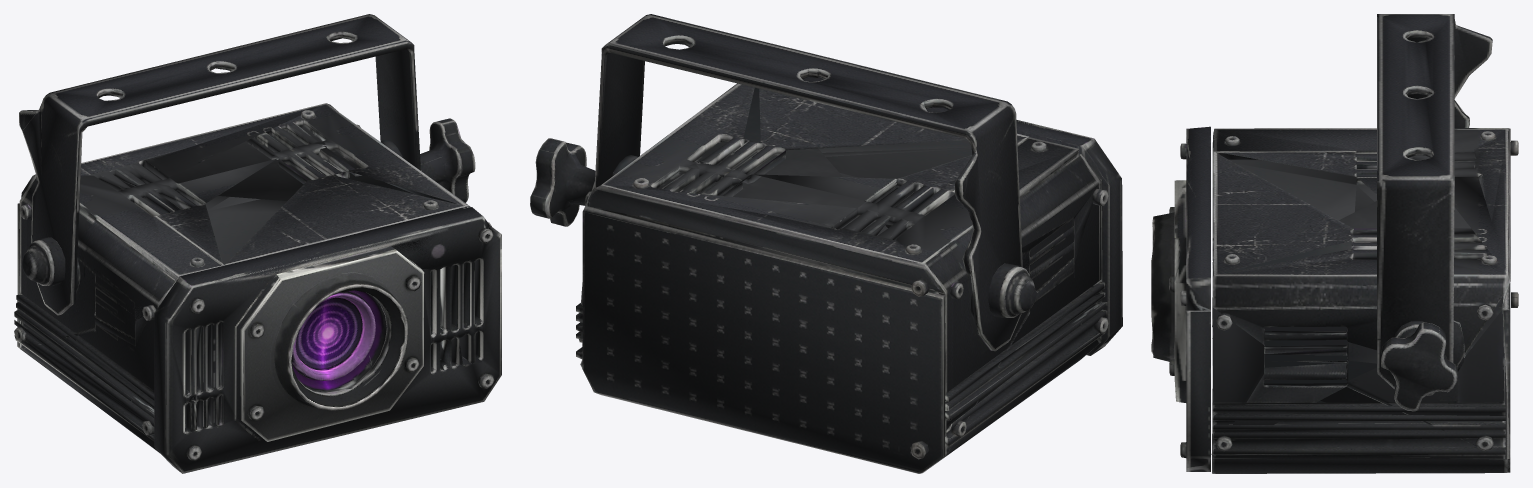
Rendered from laser.glb.
3 renders of one model, left to right at view 1: azimuth 30°, elevation 25°; view 2: azimuth 150°, elevation 25°; view 3: azimuth 270°, elevation 25°, orthographic. The views are drawn at different scales.
Size of the model in its own units: 0.9521 by 0.6177 by 0.6714.
1 material, 1 textured.
